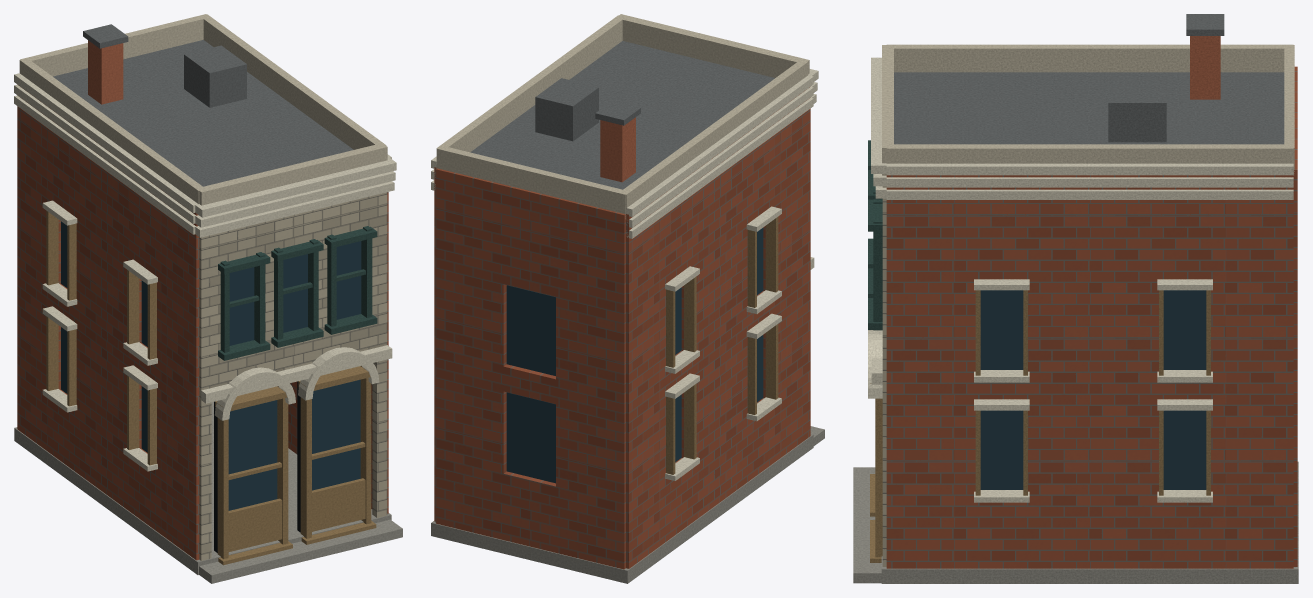
The model's file is CLSTGA15_lod2.glb.
3 renders of one model, left to right at view 1: azimuth 30°, elevation 25°; view 2: azimuth 150°, elevation 25°; view 3: azimuth 270°, elevation 25°, orthographic. The views are drawn at different scales.
Visible parts, largest first — view 1: CLSTGA15_LOD2; view 2: CLSTGA15_LOD2; view 3: CLSTGA15_LOD2.
Boxes of the visible parts, x1,y1,x2,y2 form: CLSTGA15_LOD2: [14, 14, 402, 583]; CLSTGA15_LOD2: [431, 14, 824, 583]; CLSTGA15_LOD2: [853, 14, 1298, 583].
Bounding box in the file's own units: 4.11 × 7.85 × 6.57.
Materials: 11 (9 with a texture image).
